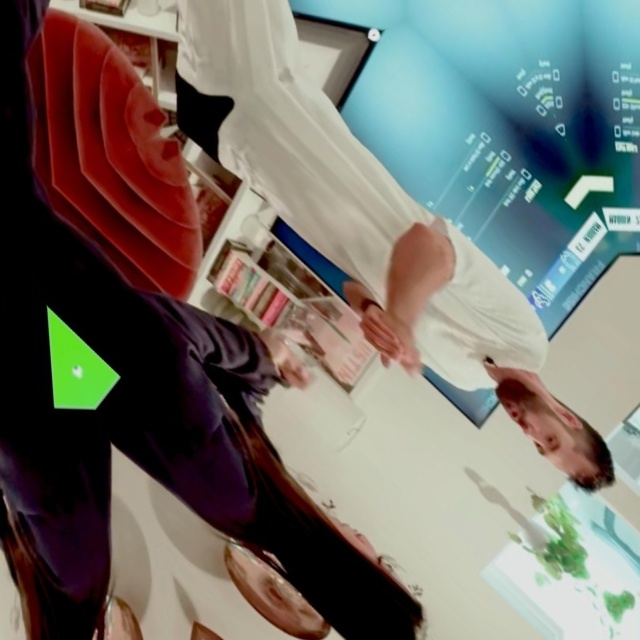Rock: (362, 300, 442, 392), (261, 332, 329, 408)
